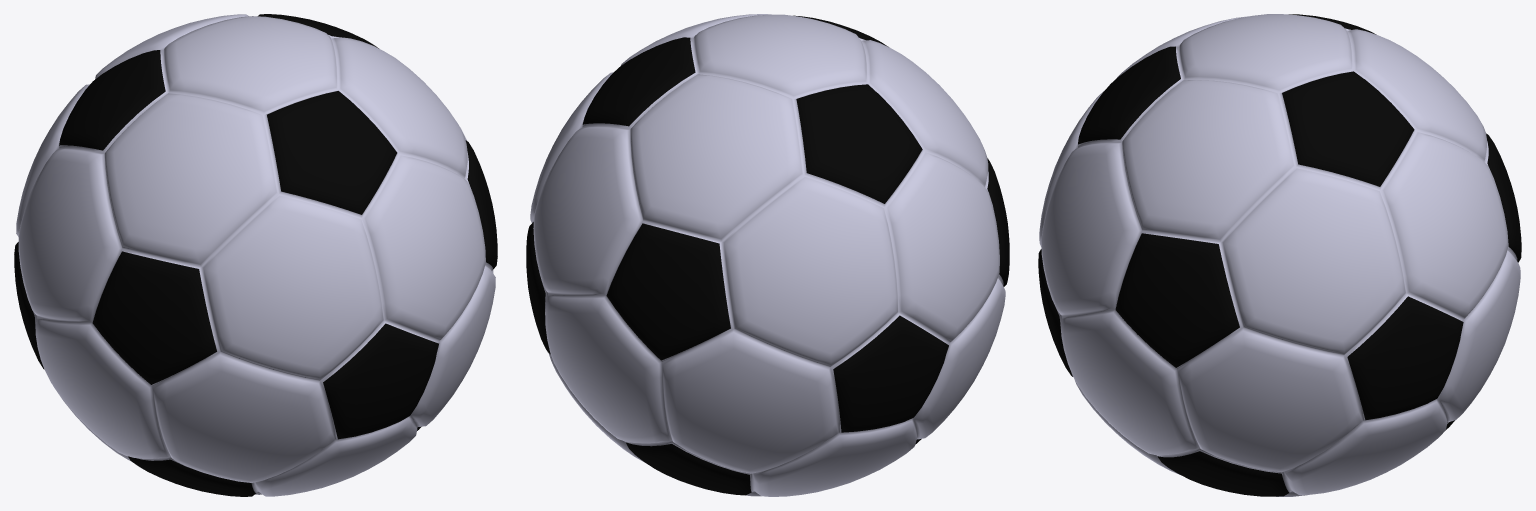
The model's file is ball.obj.
3 renders of one model, left to right at view 1: azimuth 30°, elevation 25°; view 2: azimuth 150°, elevation 25°; view 3: azimuth 270°, elevation 25°, orthographic.
Visible parts, largest first — view 1: Icosphere; view 2: Icosphere; view 3: Icosphere.
Part boxes in pixels (box(x1,y1,x2,y2)): Icosphere: box(14, 14, 497, 496); Icosphere: box(526, 14, 1009, 496); Icosphere: box(1038, 14, 1521, 496).
Bounding box in the file's own units: 0.1 × 0.1 × 0.1.
